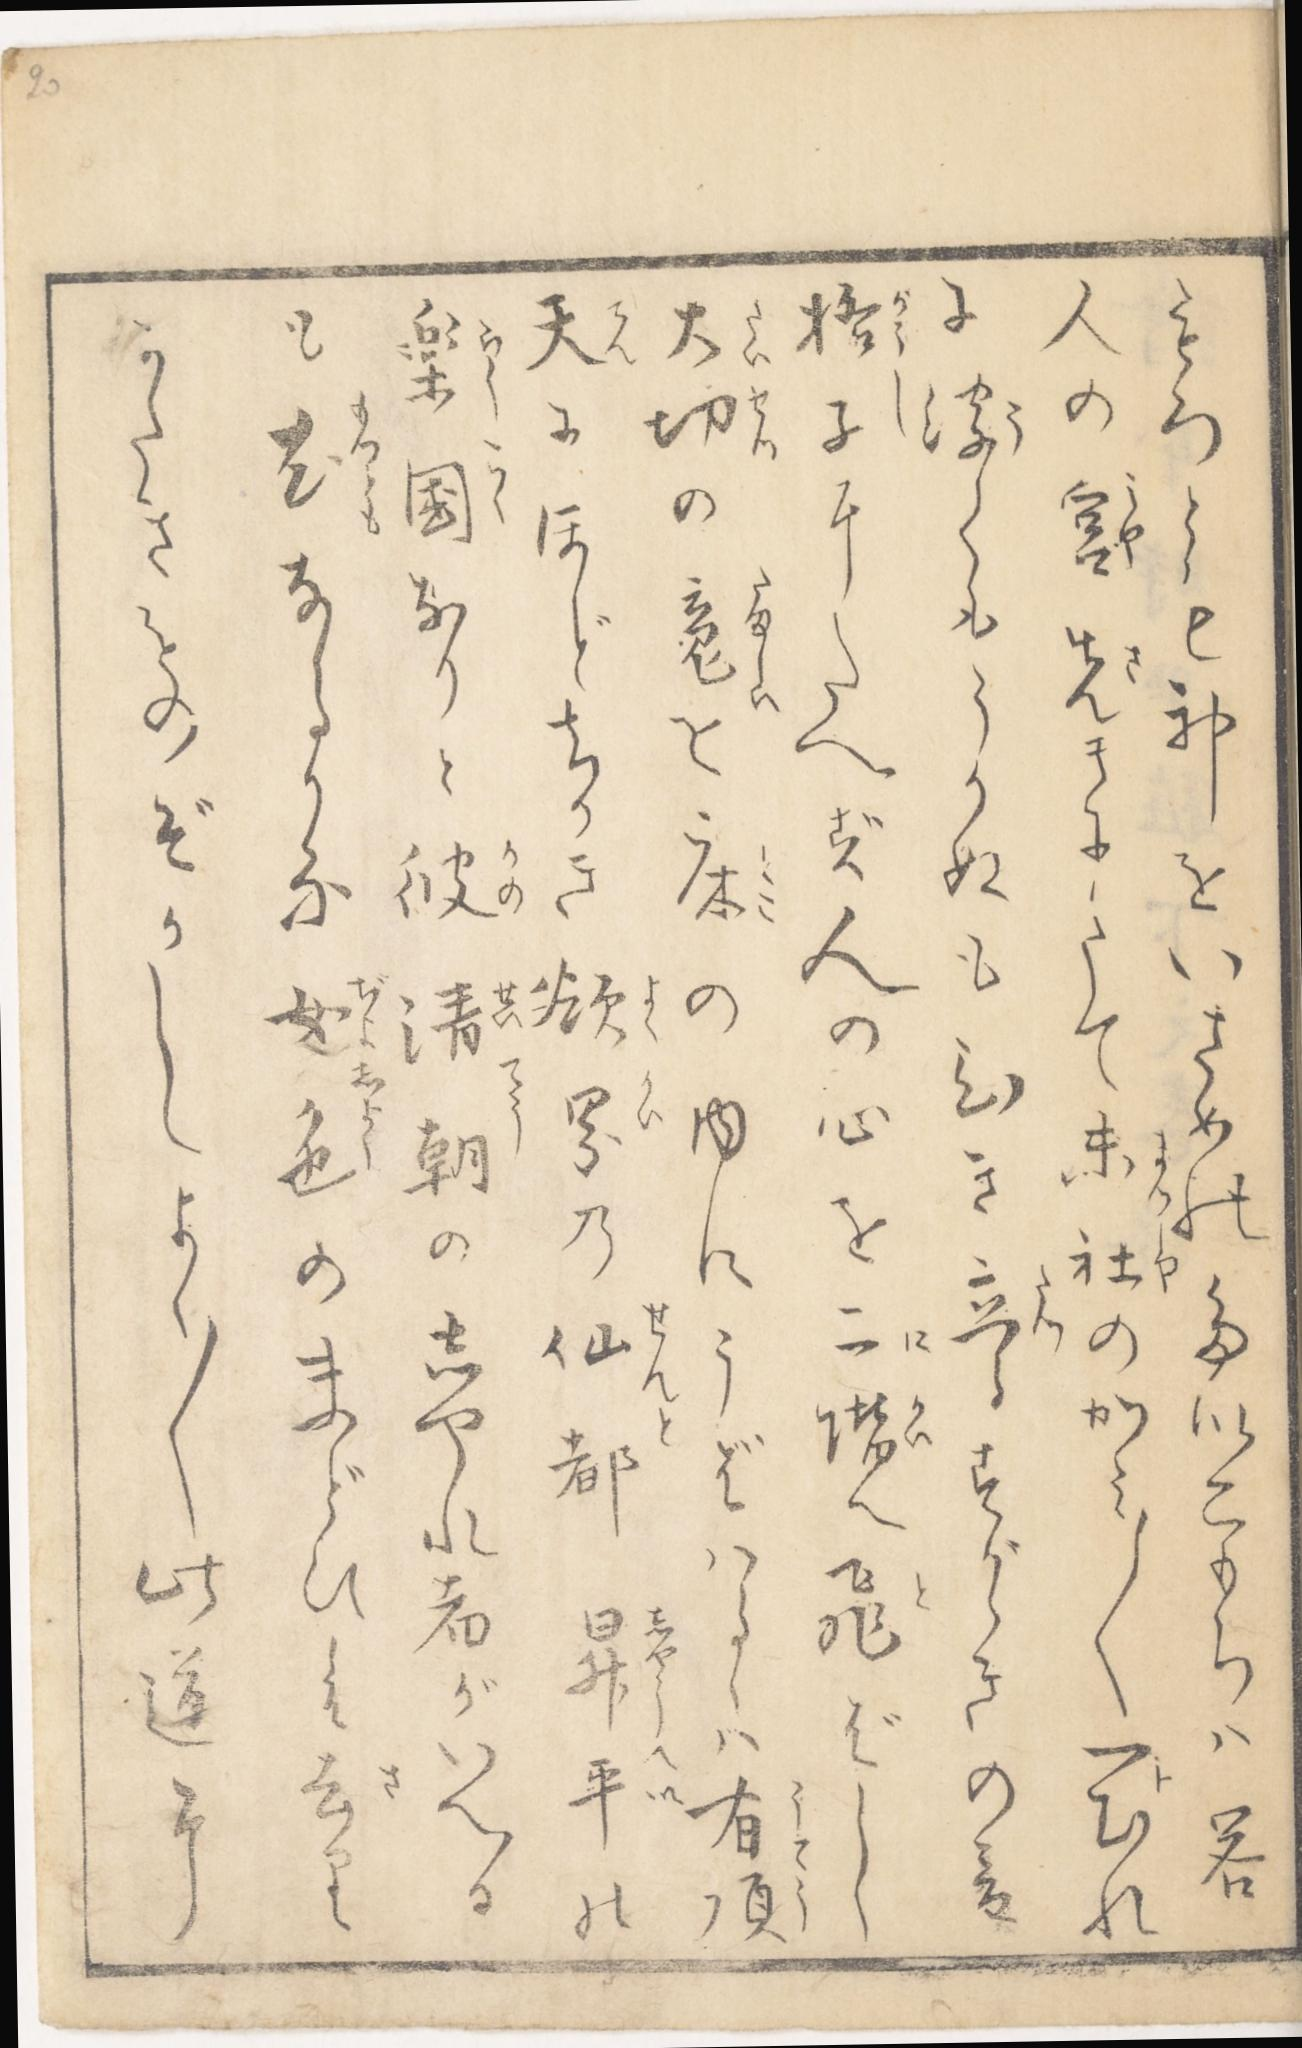MainZone-Character: (252, 393, 388, 540), (660, 566, 790, 717), (269, 1055, 394, 1206), (403, 1055, 530, 1203), (543, 1405, 688, 1527), (394, 427, 527, 557), (529, 1293, 682, 1405), (888, 364, 1050, 470), (381, 822, 538, 931), (385, 287, 515, 418), (803, 1548, 935, 1670), (546, 1060, 672, 1184), (635, 373, 788, 470), (526, 952, 666, 1055), (663, 819, 785, 936), (690, 1767, 818, 1872), (945, 1252, 1065, 1360), (1063, 1108, 1184, 1214), (518, 287, 645, 381), (690, 1867, 835, 1949), (555, 1645, 685, 1736), (1056, 470, 1156, 585), (397, 969, 523, 1060), (805, 1384, 942, 1464), (266, 969, 393, 1055), (1056, 619, 1151, 728), (812, 1291, 938, 1372), (660, 294, 781, 375), (548, 1591, 682, 1663), (802, 281, 917, 364), (558, 1736, 679, 1815), (1063, 1220, 1181, 1299)
MainZone-Ruby: (337, 391, 390, 536), (736, 566, 785, 711), (632, 1300, 682, 1408), (351, 1058, 396, 1179), (467, 307, 514, 409), (345, 970, 397, 1054), (745, 830, 787, 931), (496, 1055, 536, 1152), (475, 431, 514, 530), (1027, 1260, 1069, 1348), (488, 836, 530, 921), (1112, 475, 1150, 564), (742, 382, 784, 461), (1141, 1126, 1178, 1212), (739, 294, 775, 379), (781, 1776, 815, 1864), (605, 293, 644, 369), (642, 1739, 682, 1809), (902, 1387, 939, 1460), (1145, 1220, 1183, 1291), (632, 1066, 667, 1139), (487, 970, 526, 1034), (1000, 390, 1035, 458), (641, 1597, 676, 1658), (635, 967, 660, 1051), (785, 1872, 818, 1936), (887, 285, 915, 354), (890, 1317, 933, 1361), (648, 1412, 685, 1460), (645, 1660, 670, 1727), (1121, 633, 1147, 685), (906, 1564, 933, 1612)
